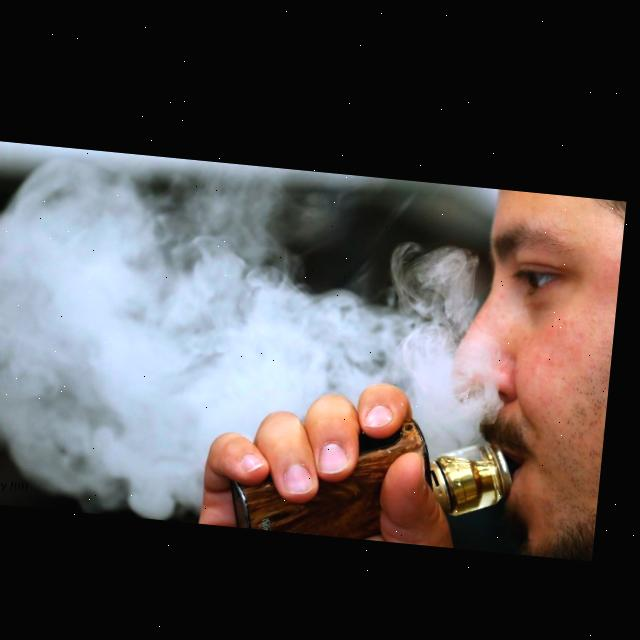vape: (237, 393, 527, 542)
